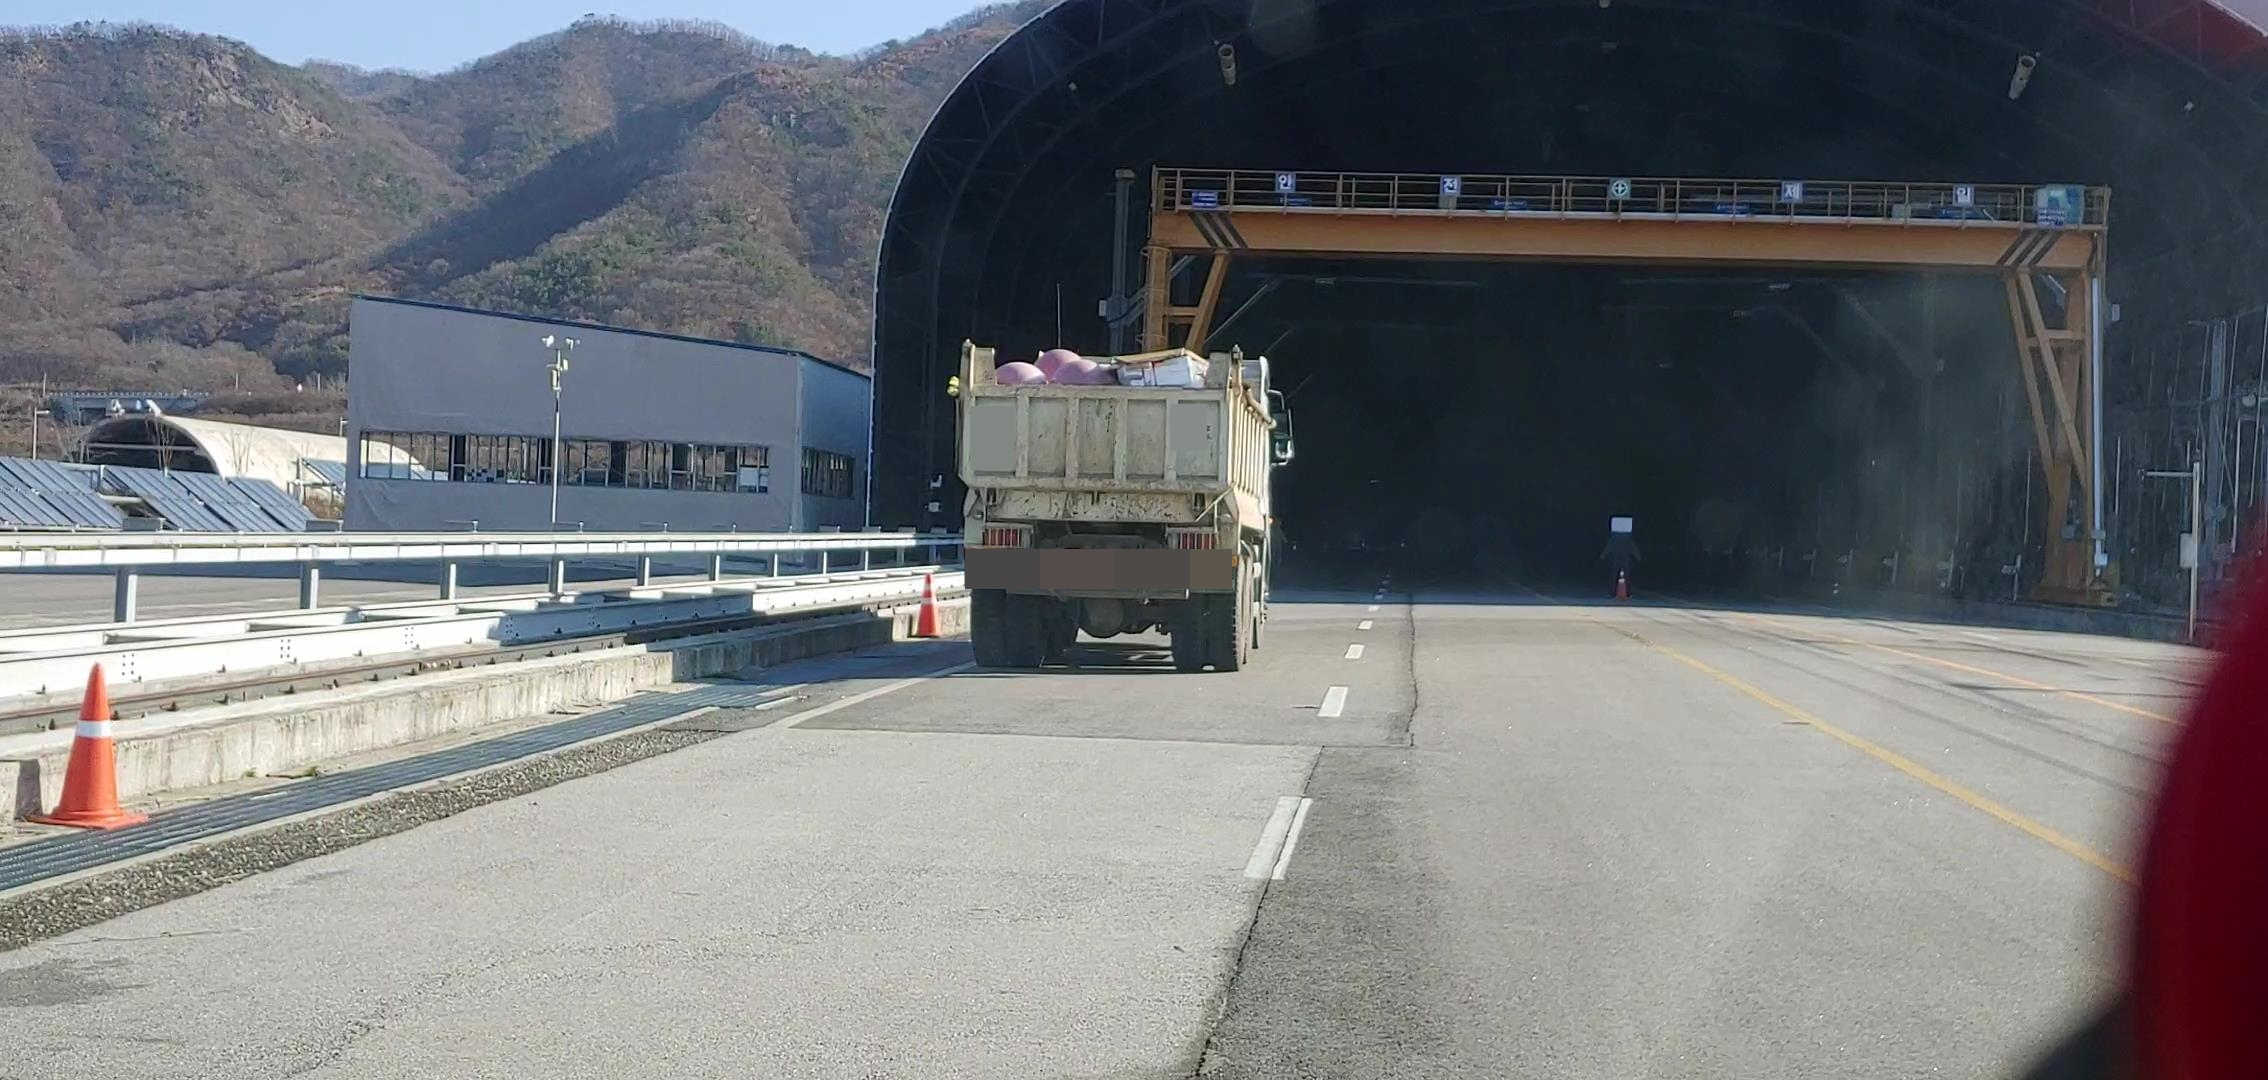불법차량: (953, 338, 1295, 671)
